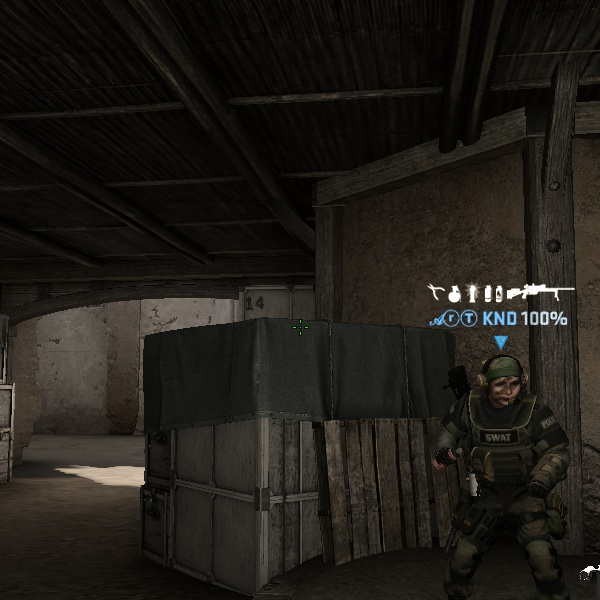ct_body: (402, 339, 600, 600)
ct_head: (463, 345, 535, 411)
